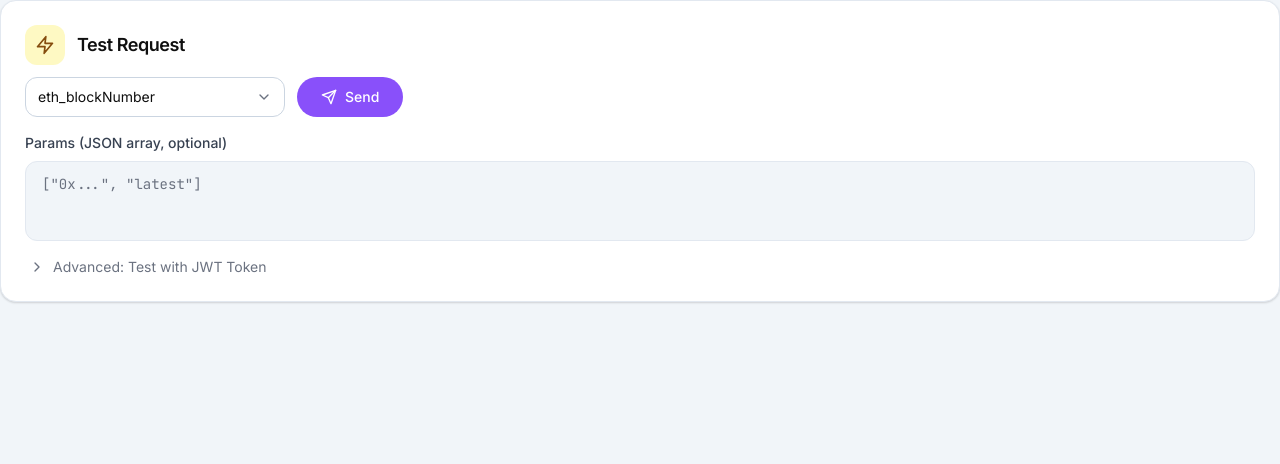
Test case: TestRequestPanel › Advanced section › clicking "Advanced: Test with JWT Token" reveals JWT input
Click the button "Advanced: Test with JWT Token".
click(148, 267)  # box [25, 257, 270, 277]
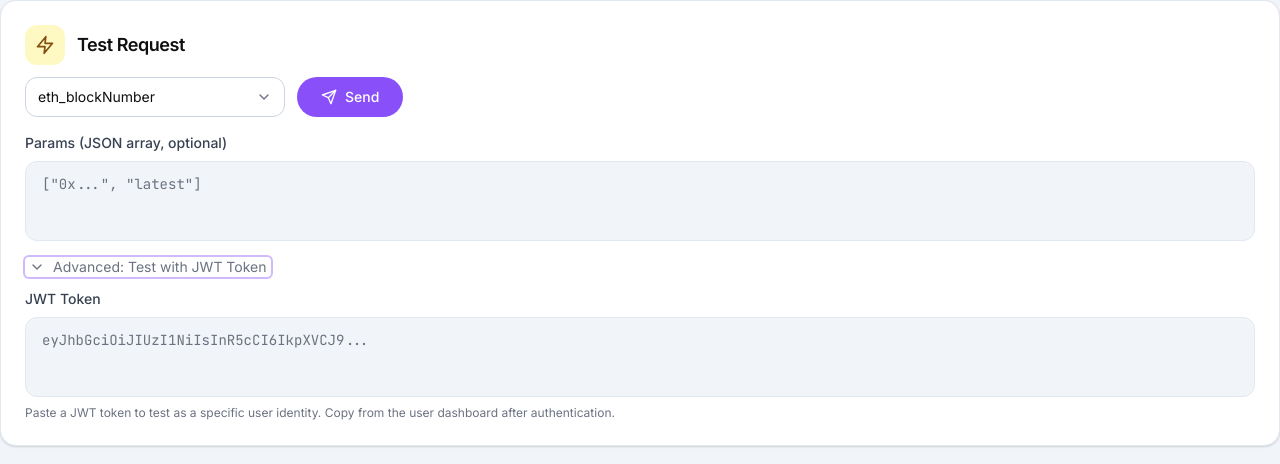
Expected: the text "JWT Token" is shown, [25, 290, 101, 307]
Expected: the text box with placeholder "eyJhbGciOiJIUzI1NiIsInR5cCI6IkpXVCJ9..." is shown, [25, 317, 1255, 397]
